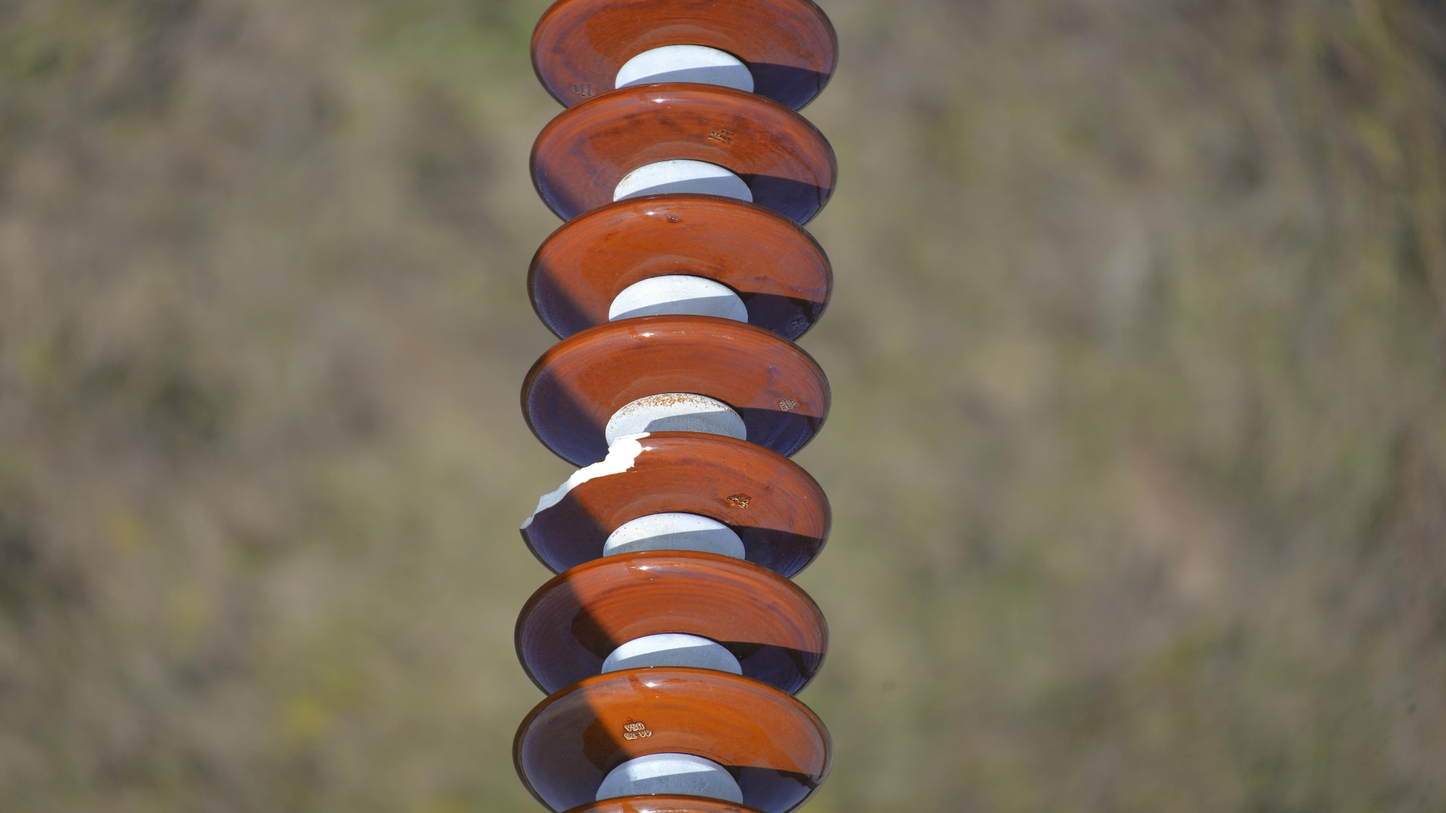insulator: (505, 1, 844, 813)
insulator_breakage: (513, 423, 658, 540)
